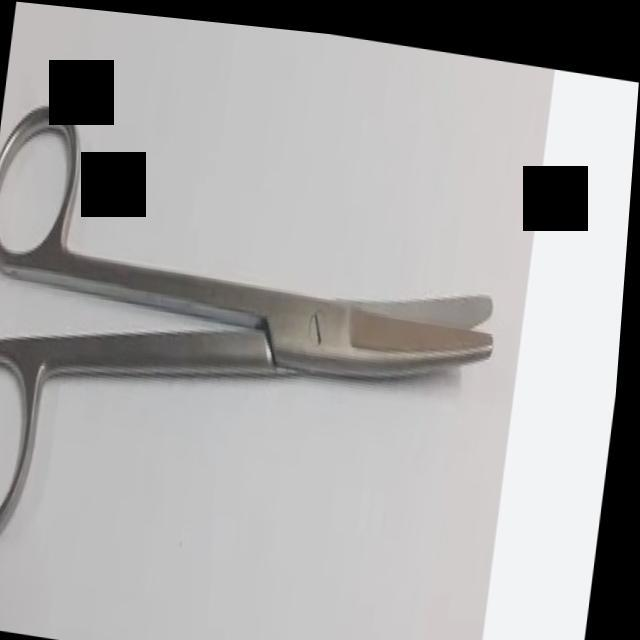Curved Mayo: (0, 78, 519, 629)
